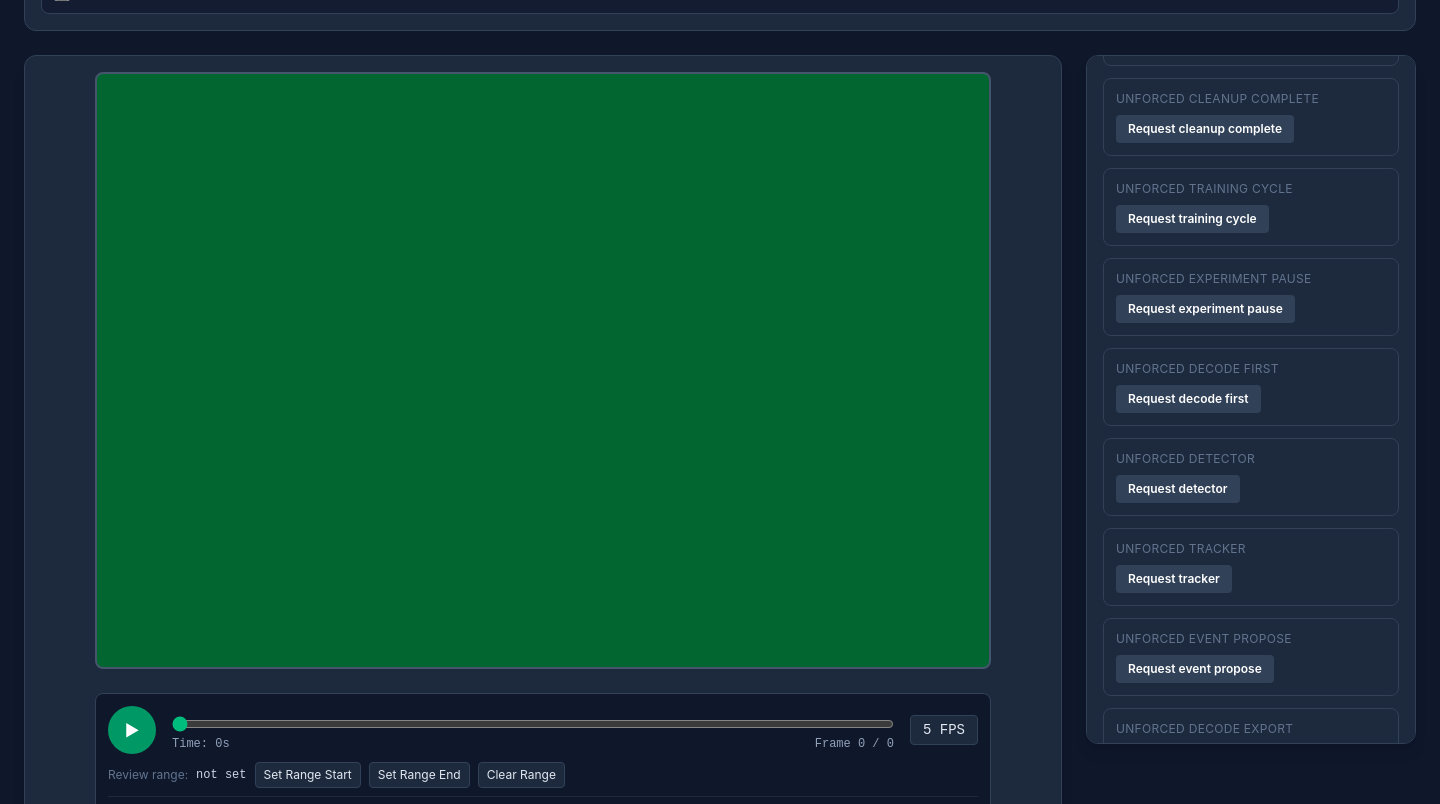
Test case: App leftover HTTP surfaces › loads stored real-video-scaleout and bounded-next-sample reports and posts decode first without leftover torchcodec frames or current-source scaleout
The width and height of the screenshot is (1440, 804).
(page scrolled)
Click the button "Request decode first" at [1188, 399], box [1116,385,1260,413]
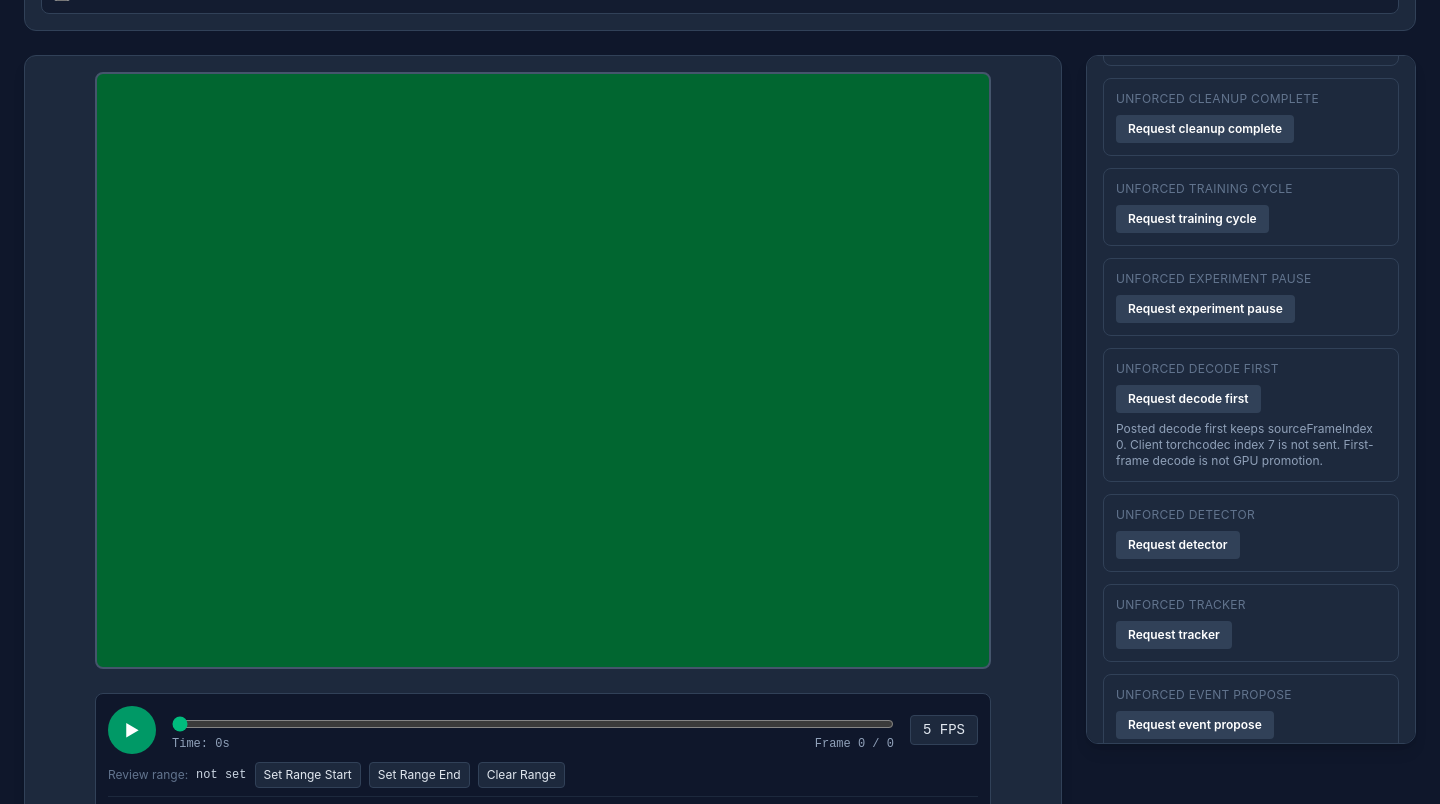
Now the text "first-frame decode is not GPU promotion" is shown, box [1116,421,1374,468]
